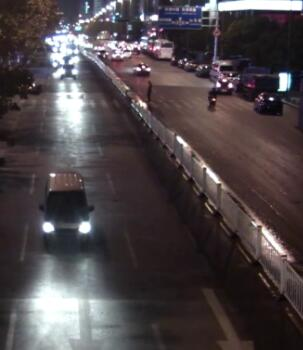bus: (151, 36, 173, 61)
car: (37, 168, 95, 252), (254, 89, 281, 113), (208, 60, 231, 79), (221, 68, 244, 85), (213, 76, 234, 93), (57, 63, 79, 79), (132, 60, 152, 76)
